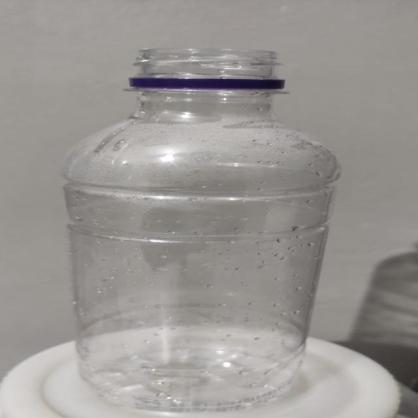bottle: (66, 40, 342, 413)
